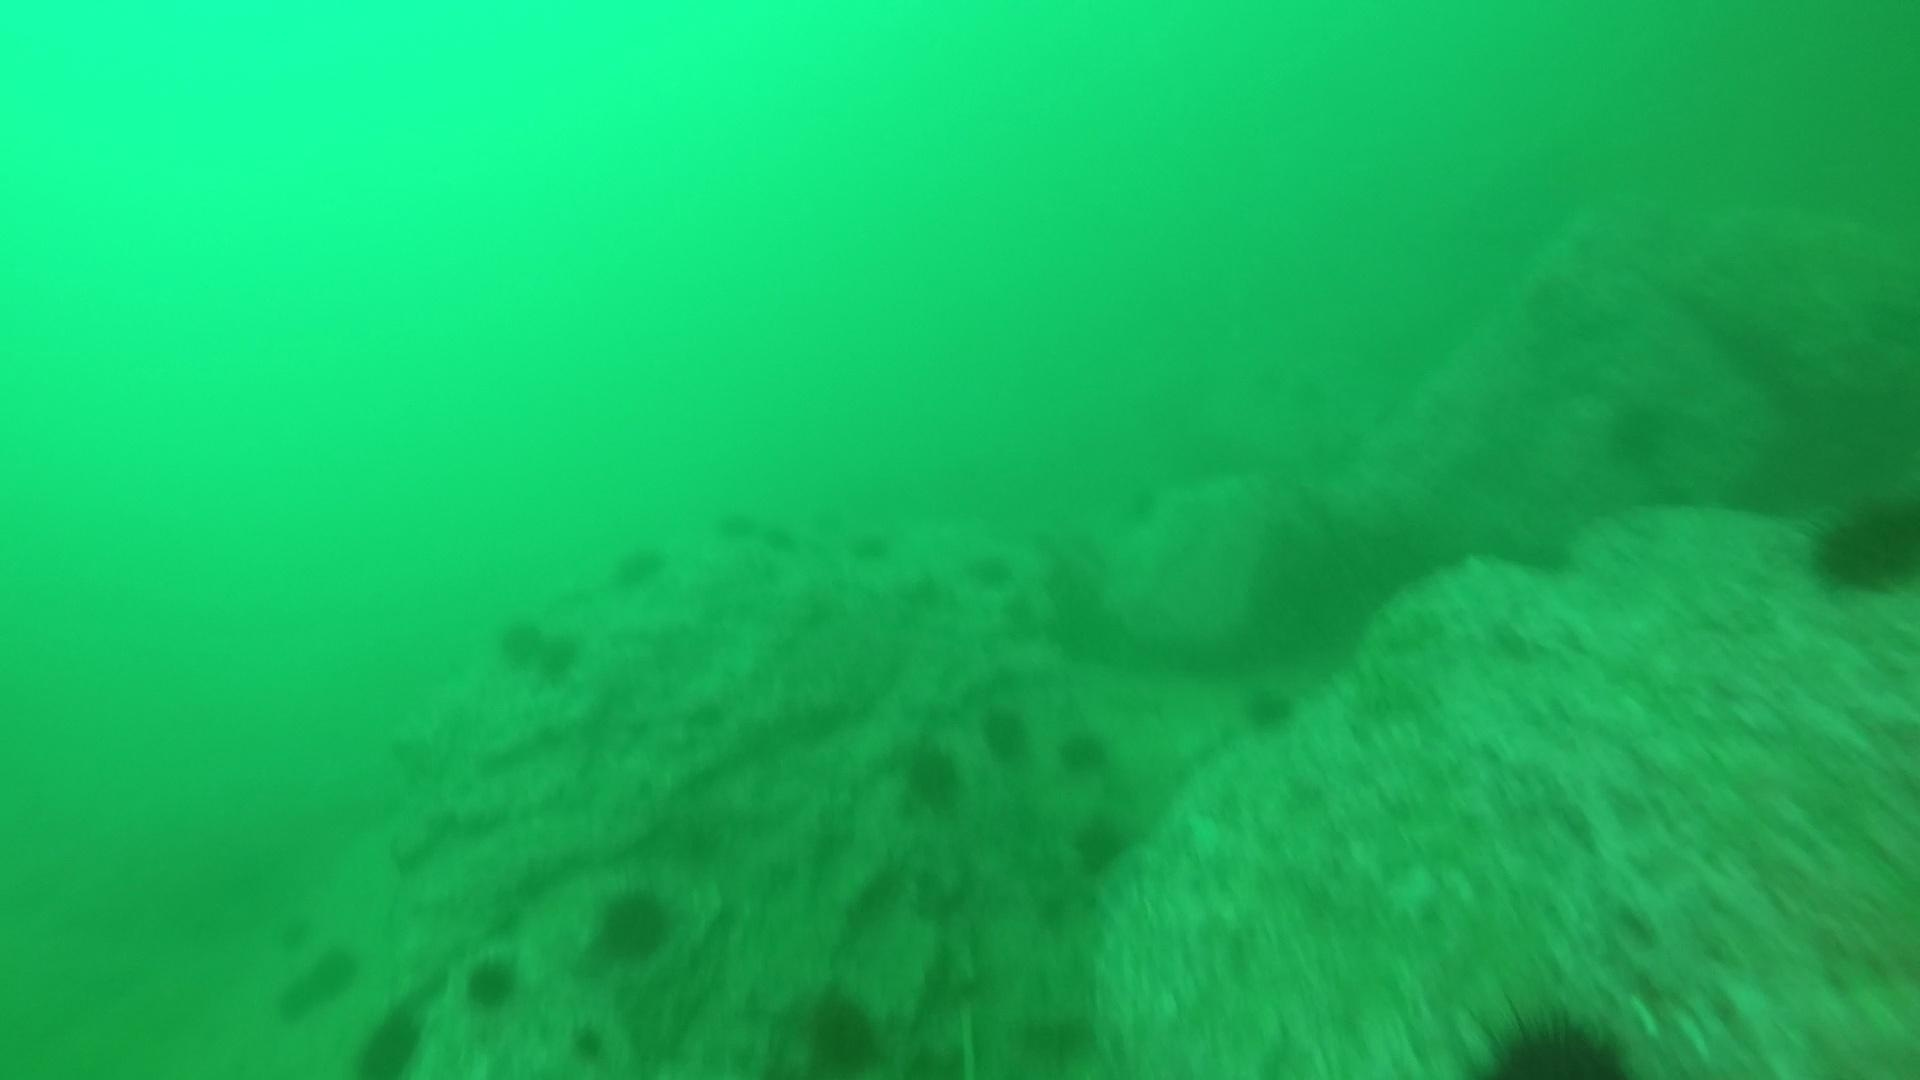echinus: (1466, 1004, 1638, 1077), (1804, 487, 1917, 597), (796, 984, 887, 1075), (588, 881, 679, 967), (276, 939, 363, 1019), (351, 1004, 429, 1080), (891, 733, 967, 810), (1065, 810, 1135, 877), (458, 949, 525, 1014), (975, 700, 1036, 765), (1237, 679, 1302, 736), (1054, 723, 1116, 778), (608, 537, 670, 591), (537, 626, 583, 687), (493, 611, 539, 670), (564, 1017, 616, 1064), (757, 524, 799, 559), (713, 512, 756, 546), (853, 527, 895, 562), (968, 551, 1010, 585)
